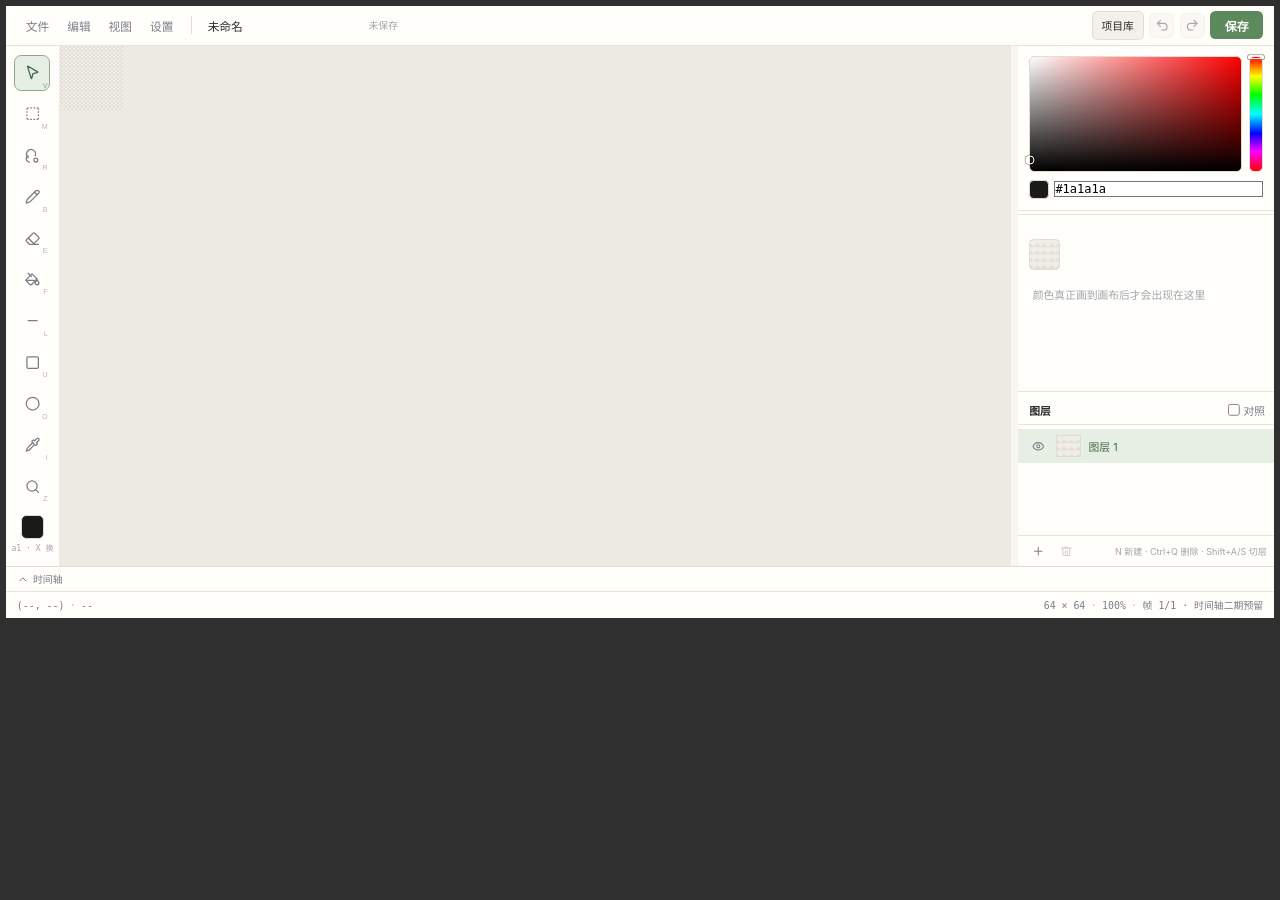
PixelStudioPage › 点击菜单栏「文件」→「新建…」打开新建文档弹窗
The width and height of the screenshot is (1280, 900).
Click the button with class "menu-bar__menu-btn" showing "文件" at (38, 25), box [17, 11, 58, 39]
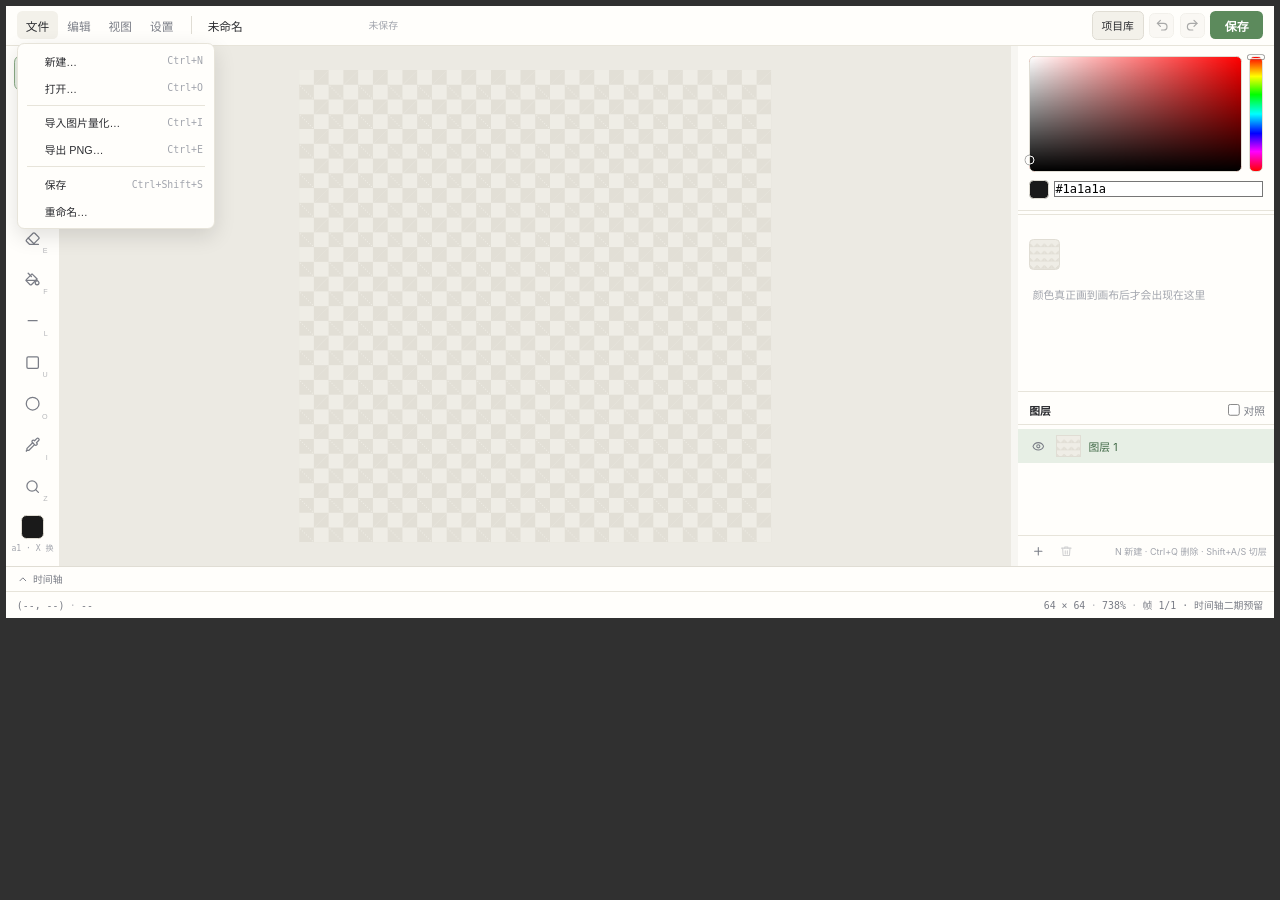
Click the button with class "menu-bar__item" showing "新建… Ctrl+N" at (116, 61), box [21, 47, 210, 74]
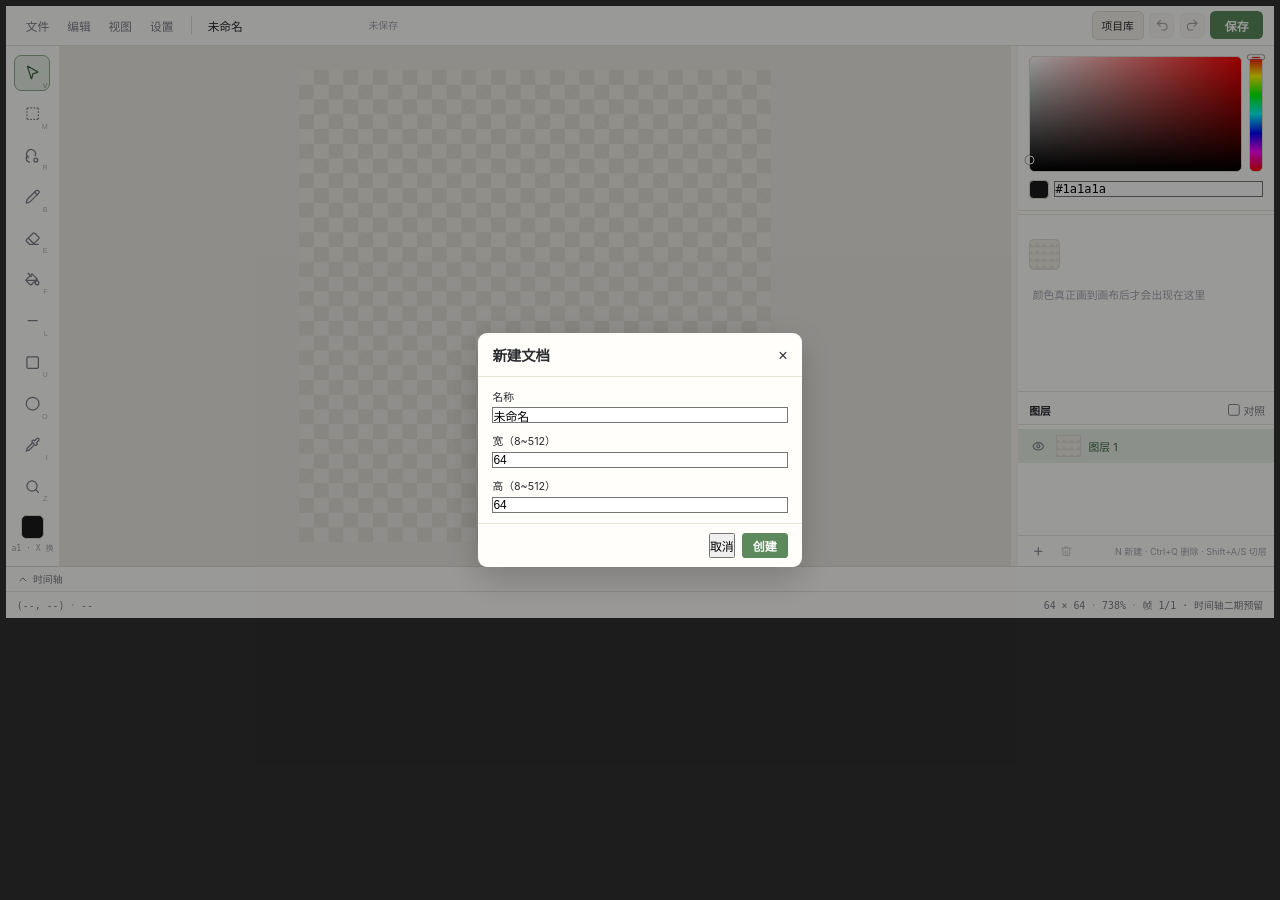
Result: the element showing "新建文档 × 名称 宽（8~512） 高（8~512） 取消 创建" is shown at [478, 333, 802, 567]
